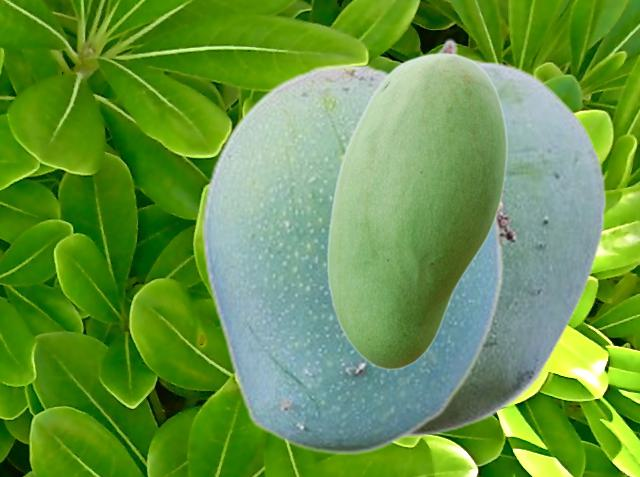green_mango: (200, 62, 503, 455), (410, 38, 606, 436), (326, 52, 506, 369)
